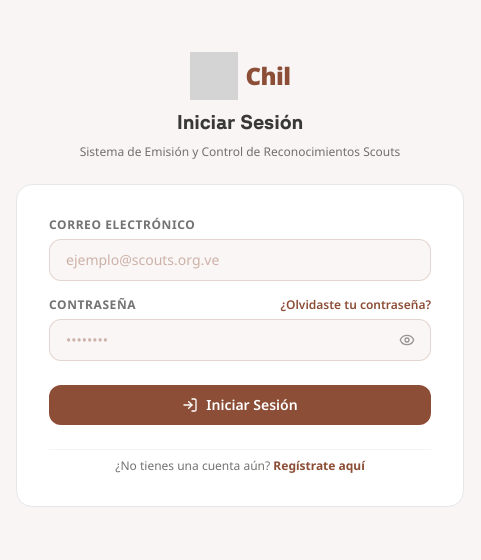
Test: LoginPage component › displays server error message if login fails
Type "scout@test.com" into the field labelled "Correo Electrónico" at (240, 260), box [49, 238, 431, 280]
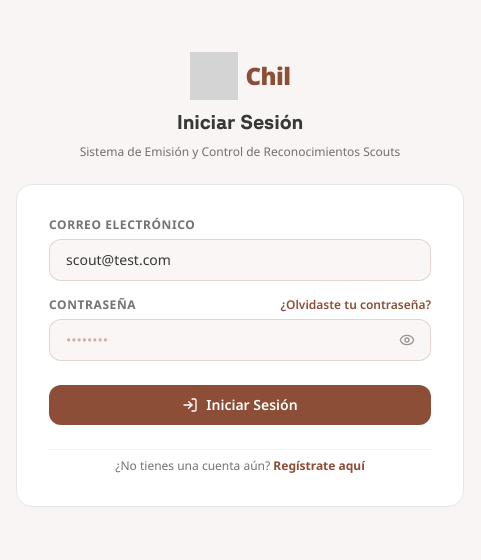
Type "wrongpass" into the password field labelled "Contraseña" at (240, 340), box [49, 318, 431, 360]
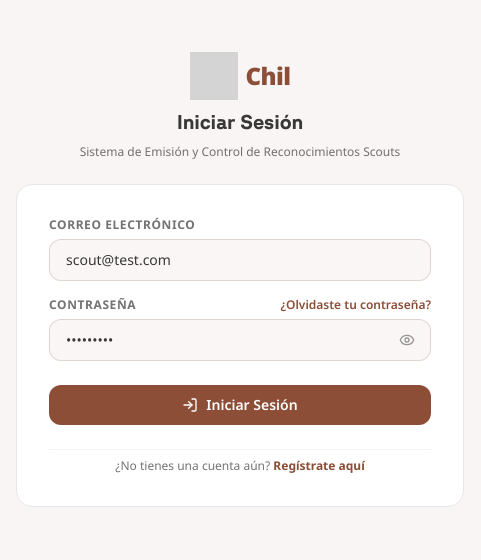
Click the button "Iniciar Sesión" at (240, 404), box [49, 384, 431, 424]
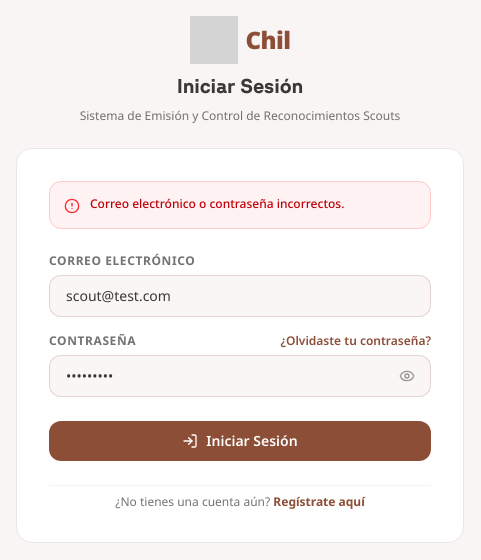
Check: the text "Correo electrónico o contraseña incorrectos." is shown, box [90, 196, 344, 212]
